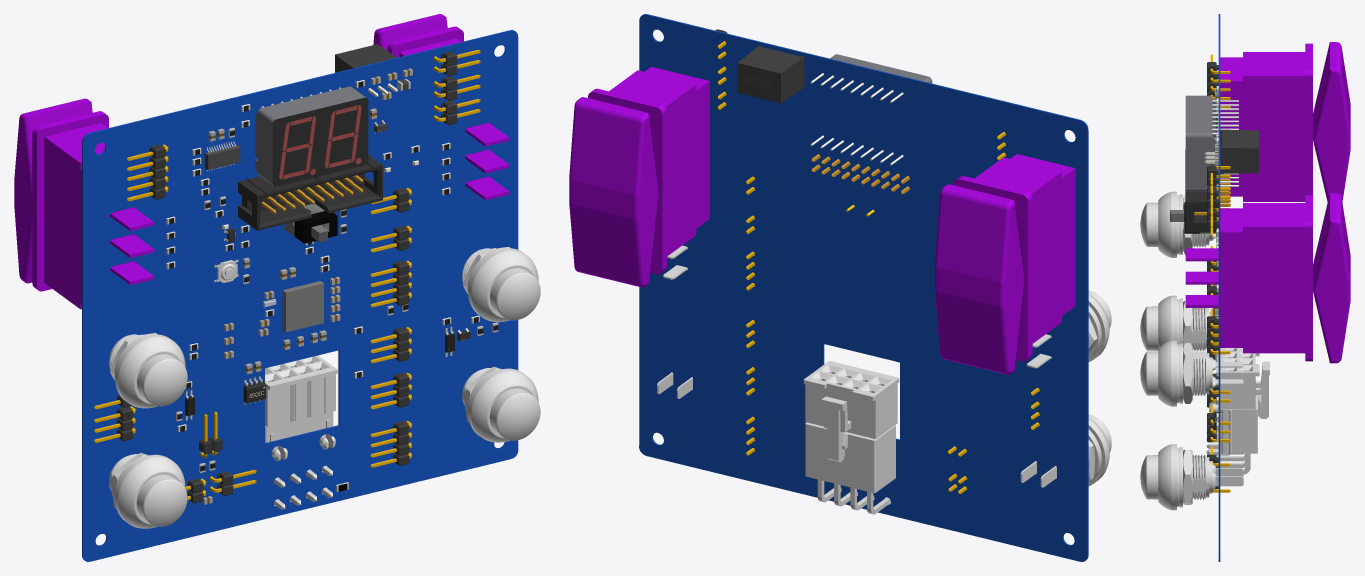
The model's file is Steering_Wheel.glb.
3 views of the same model, side by side, from view 1: azimuth 30°, elevation 25°; view 2: azimuth 150°, elevation 25°; view 3: azimuth 270°, elevation 25° (orthographic). The views are drawn at different scales.
Visible parts, largest first — view 1: PCB, 7Segment_3Digit_C18187 v3:1, NAUO1, NAUO2, =>[0:1:1:2]; view 2: PCB, NAUO1, 7Segment_3Digit_C18187 v3:1; view 3: PCB, 7Segment_3Digit_C18187 v3:1, NAUO1, Linear Pattern 02, Linear Pattern 01.
Boxes of the visible parts, left/top/right/bottom form: PCB: left=14, top=14, right=540, bottom=561; 7Segment_3Digit_C18187 v3:1: left=255, top=86, right=368, bottom=186; NAUO1: left=335, top=44, right=397, bottom=96; NAUO2: left=294, top=211, right=337, bottom=243; =>[0:1:1:2]: left=204, top=145, right=240, bottom=169; PCB: left=569, top=14, right=1111, bottom=561; NAUO1: left=737, top=45, right=804, bottom=103; 7Segment_3Digit_C18187 v3:1: left=830, top=54, right=932, bottom=152; PCB: left=1140, top=14, right=1350, bottom=561; 7Segment_3Digit_C18187 v3:1: left=1185, top=95, right=1215, bottom=191; NAUO1: left=1204, top=129, right=1258, bottom=173; Linear Pattern 02: left=1212, top=116, right=1238, bottom=134; Linear Pattern 01: left=1212, top=100, right=1238, bottom=114.
Size of the model in its own units: 0.1147 by 0.1078 by 0.0556.
